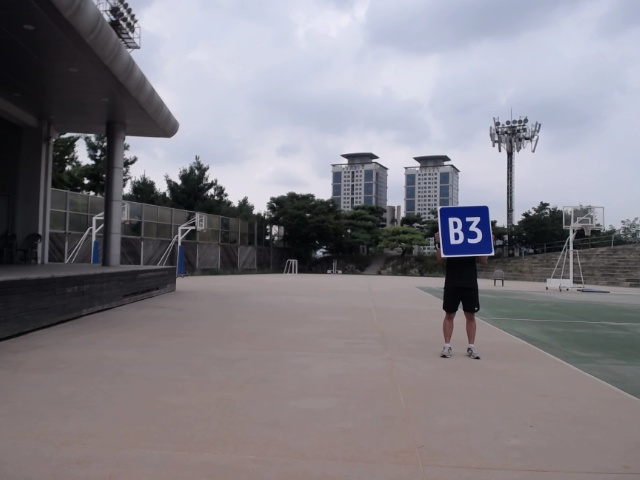delivery_b3: (437, 204, 496, 258)
